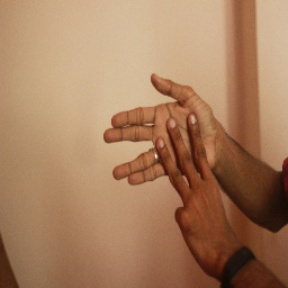M: (99, 71, 224, 210)
